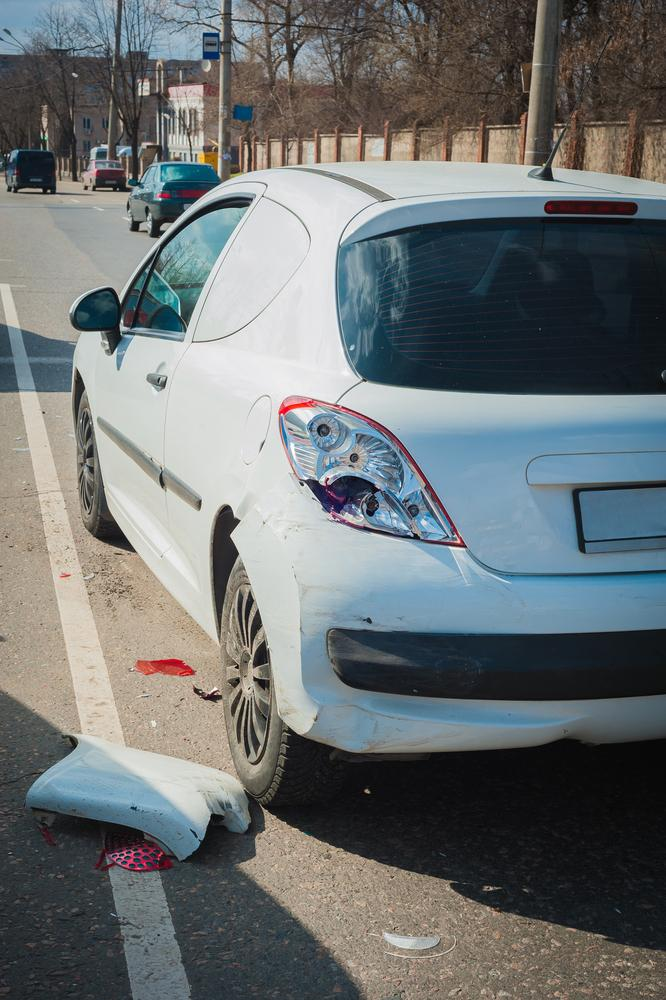dent: (324, 697, 445, 756)
lamp broken: (280, 396, 468, 546)
